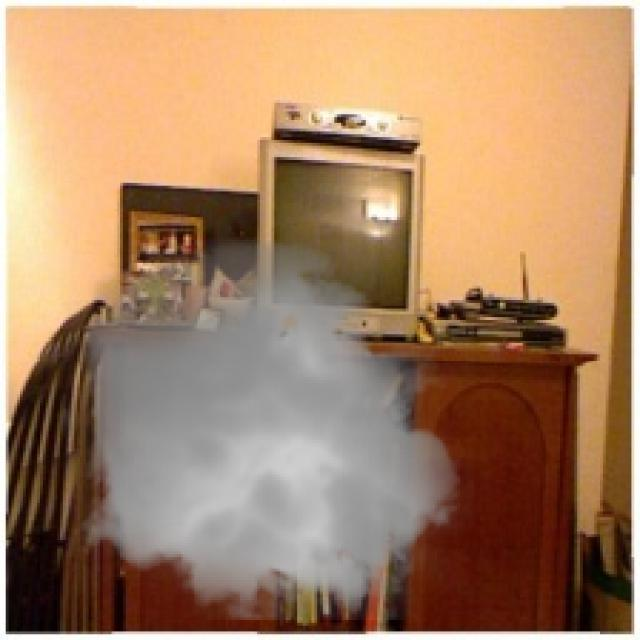Smoke: (62, 225, 474, 638)
